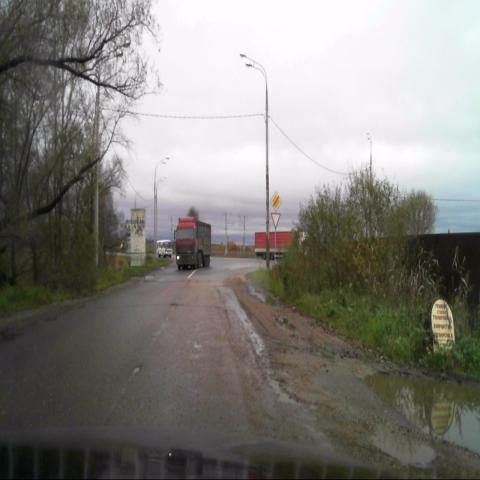2_2: (271, 190, 282, 211)
2_4: (271, 212, 281, 228)
